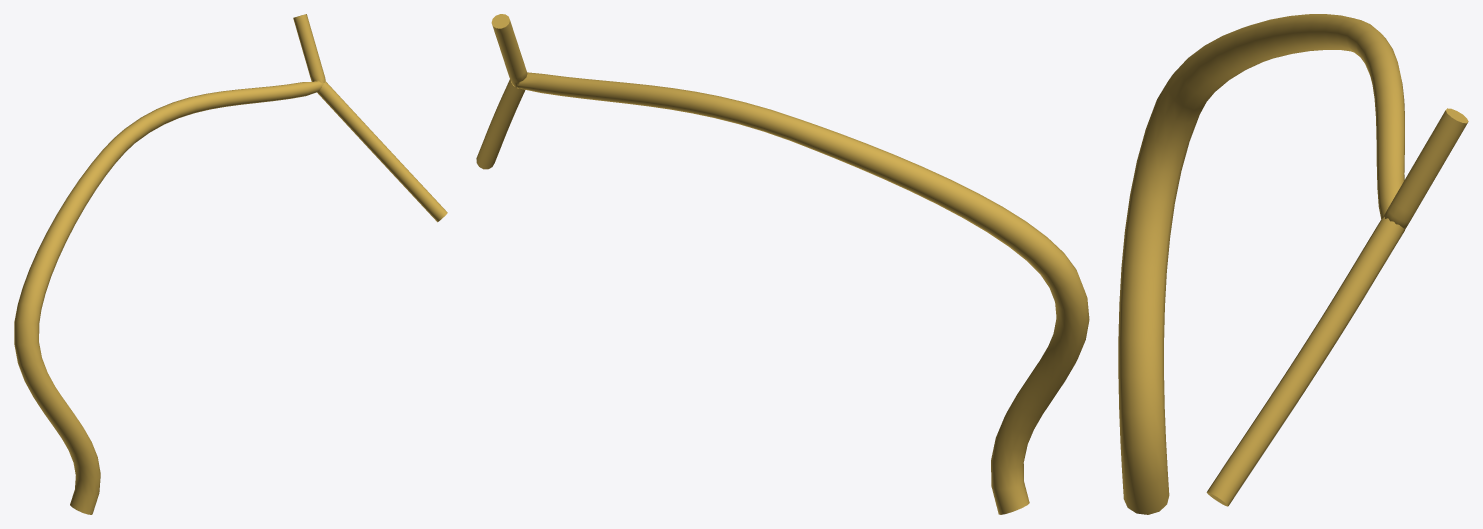
The picture shows the model from 3 angles, left to right: view 1: azimuth 30°, elevation 25°; view 2: azimuth 150°, elevation 25°; view 3: azimuth 270°, elevation 25°; orthographic projection. The views are drawn at different scales.
Parts seen in each view (by area): view 1: 右侧前庭蜗神经; view 2: 右侧前庭蜗神经; view 3: 右侧前庭蜗神经.
Boxes of the visible parts, <box> form: 右侧前庭蜗神经: <box>14,14,447,514</box>; 右侧前庭蜗神经: <box>476,14,1089,514</box>; 右侧前庭蜗神经: <box>1118,14,1468,514</box>.
Bounding box in the file's own units: 0.0212 × 0.0166 × 0.0079.
